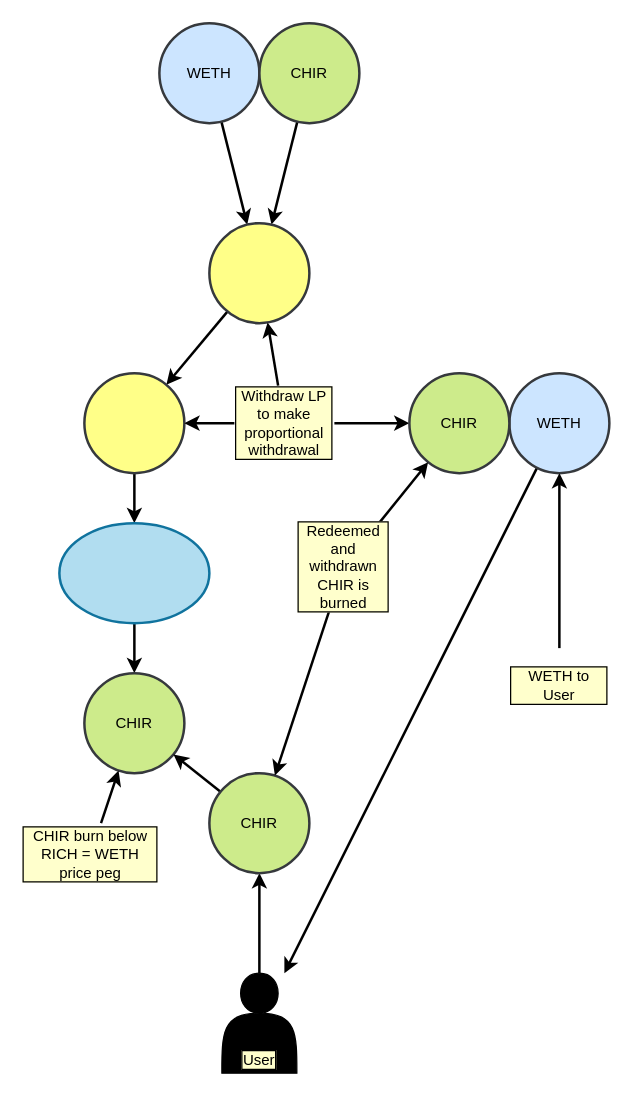
Image size: 631x1095. Some labels were removed from this diagram. The centre of each missing label's shape, as x and y in pixels:
"WETH/CHIR" goes at point (259, 272).
"WETH/CHIR 20% CHIR/RICH 80% Weighted Pool" goes at point (134, 572).
"WETH/CHIR Strategy Vault" goes at point (133, 422).
